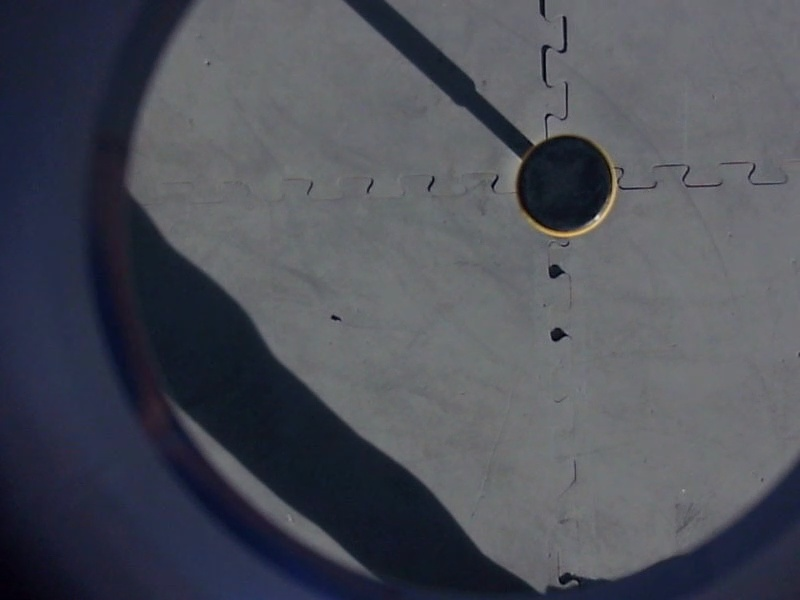tip: (505, 127, 624, 248)
